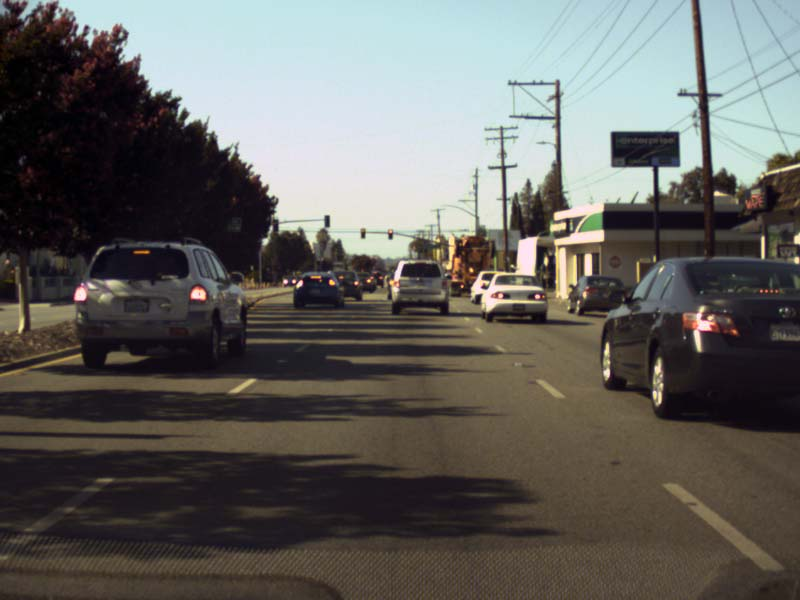Red: (360, 228, 365, 238), (387, 228, 391, 239)
